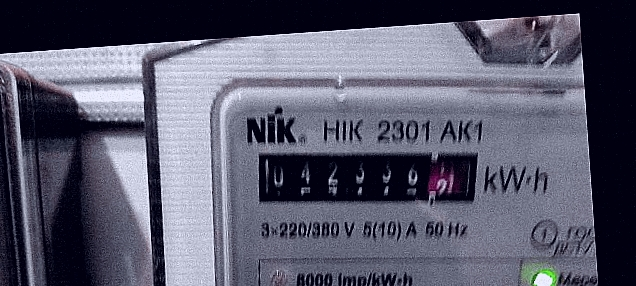0: (270, 160, 285, 189)
2: (322, 158, 342, 186)
3: (349, 156, 367, 186), (378, 155, 394, 184)
4: (296, 159, 314, 187)
6: (404, 159, 421, 187)
screen: (244, 129, 489, 226)
